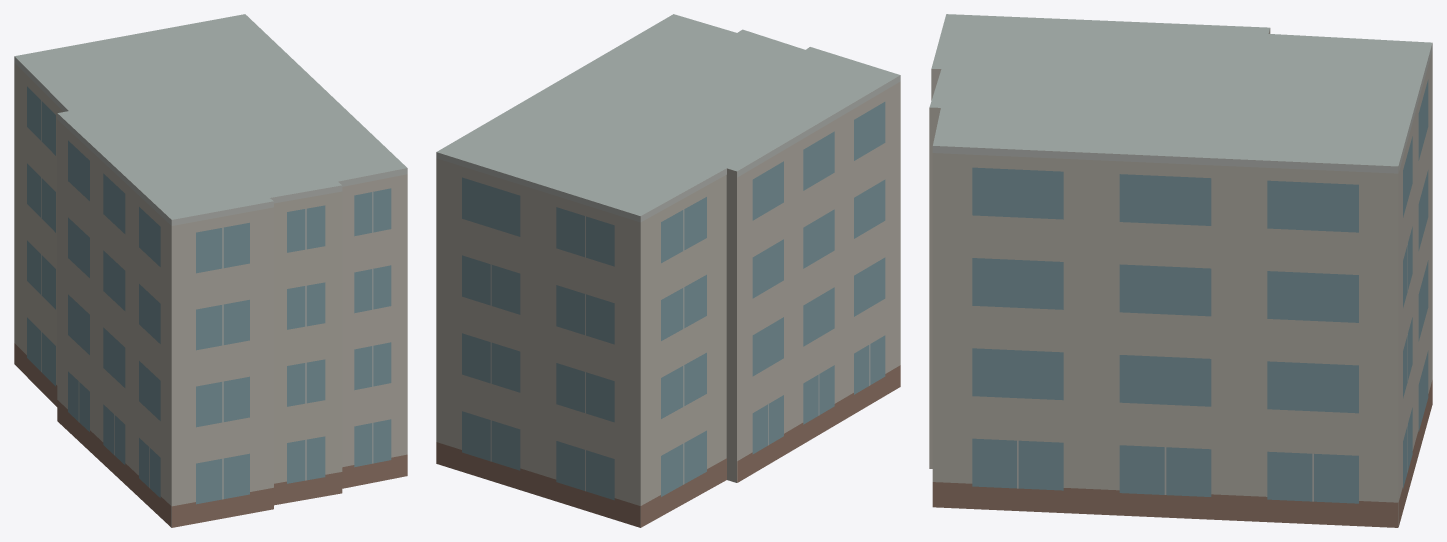
File: survey-upis-32919024.glb
3 renders of one model, left to right at view 1: azimuth 30°, elevation 25°; view 2: azimuth 150°, elevation 25°; view 3: azimuth 270°, elevation 25°, orthographic. The views are drawn at different scales.
Visible parts, largest first — view 1: survey-upis-32919024.tmp; view 2: survey-upis-32919024.tmp; view 3: survey-upis-32919024.tmp.
Boxes of the visible parts, x1=… form: survey-upis-32919024.tmp: x1=14, y1=14, x2=407, y2=527; survey-upis-32919024.tmp: x1=436, y1=14, x2=900, y2=527; survey-upis-32919024.tmp: x1=929, y1=14, x2=1432, y2=527.
Bounding box in the file's own units: 11.05 × 12.2 × 15.4.
